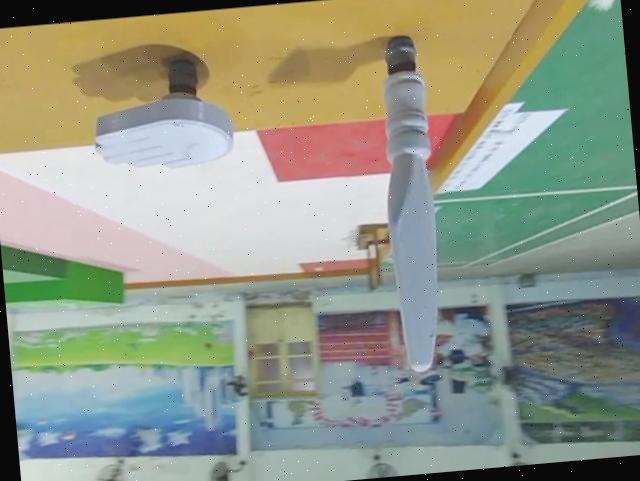Hand: (87, 48, 240, 180)
Sph: (367, 30, 457, 372)
